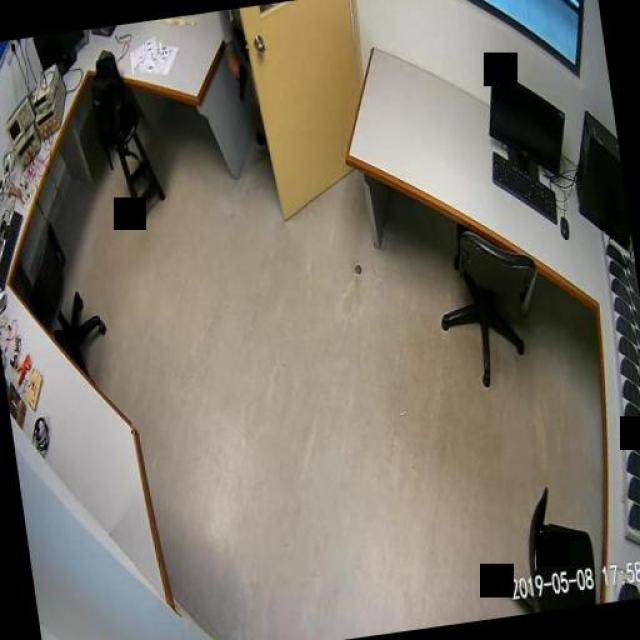gun: (225, 54, 254, 104)
